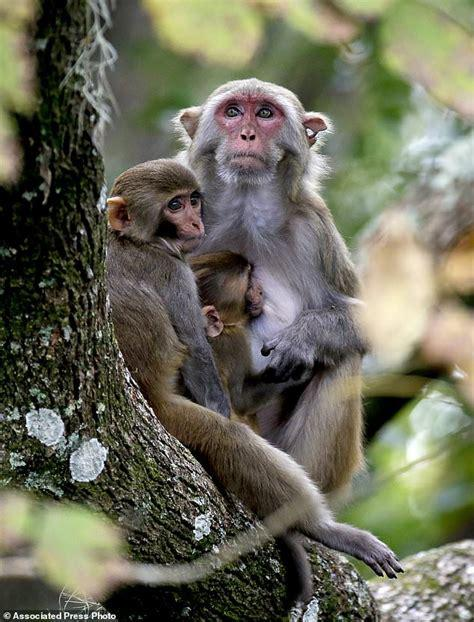monkey: (105, 160, 401, 595), (176, 78, 363, 494), (188, 250, 308, 427)
